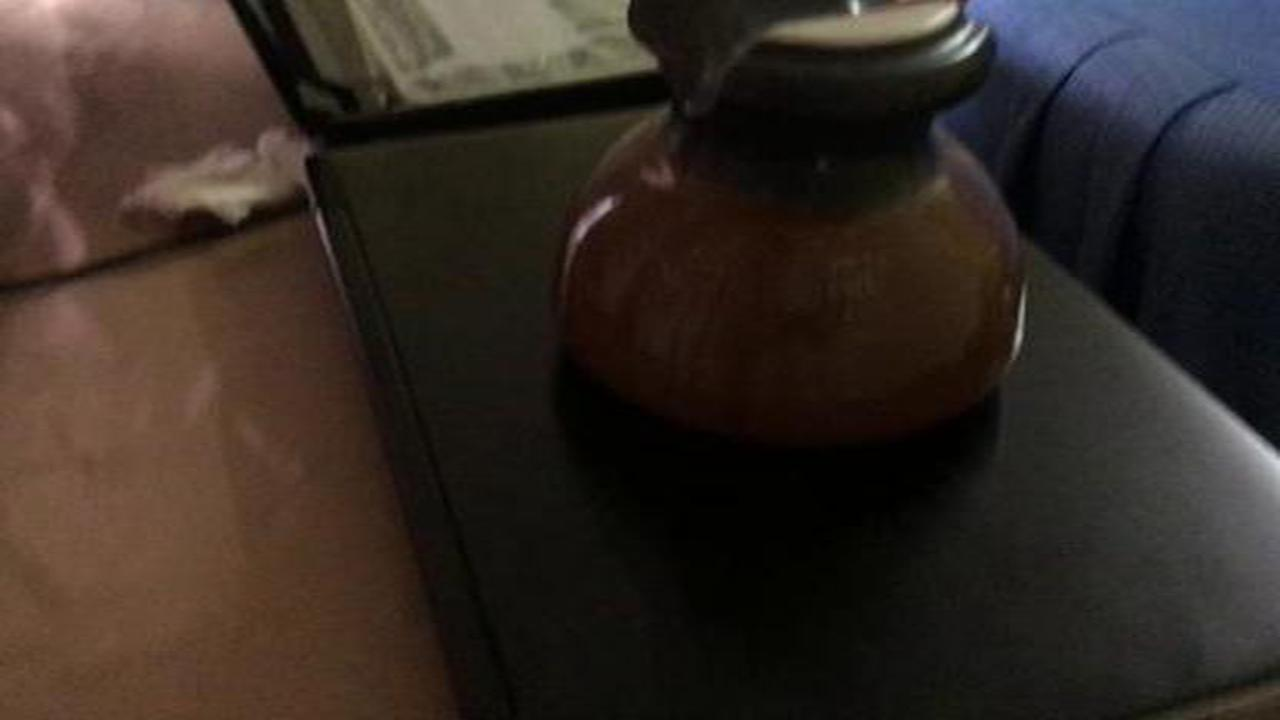insulator_pin: (539, 4, 1044, 468)
